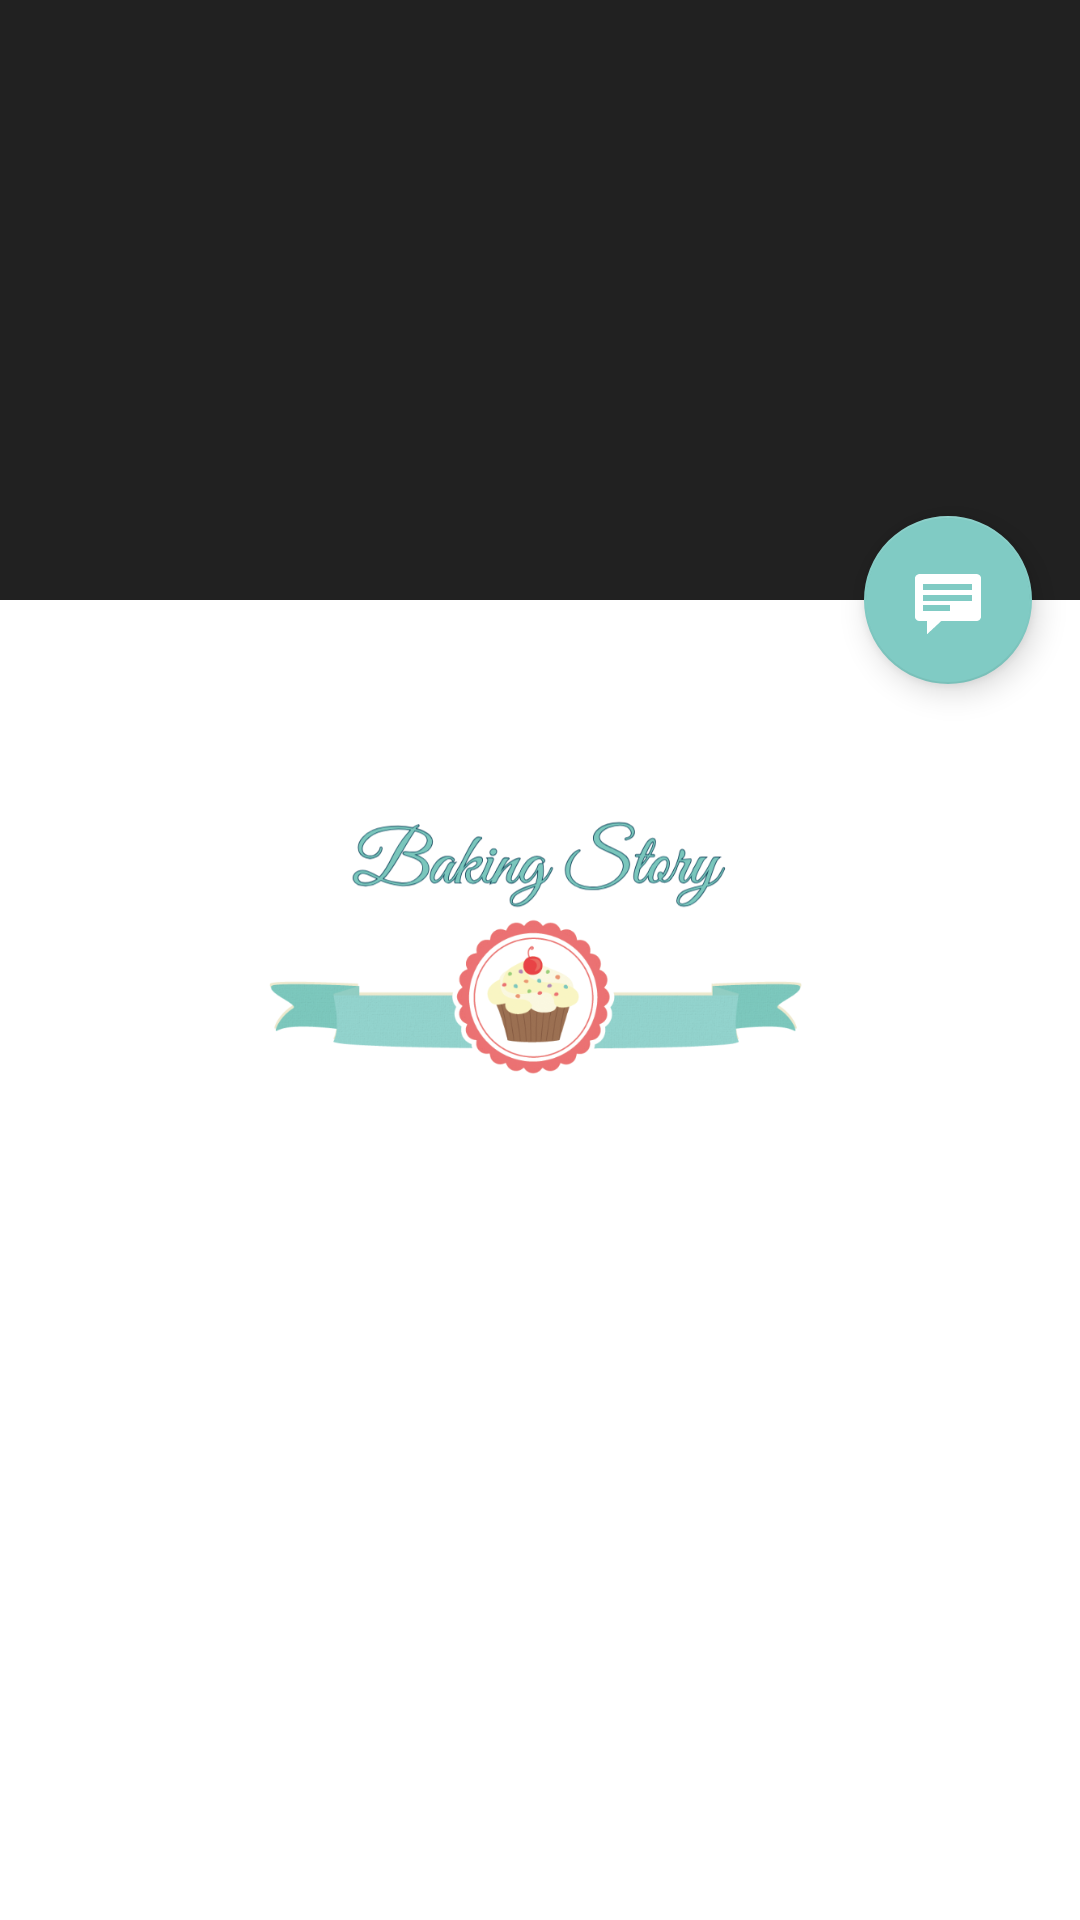

Point at icon controls on the screen. Image size 1080px x 1920px, points as (x,y).
chat: (948,600)
